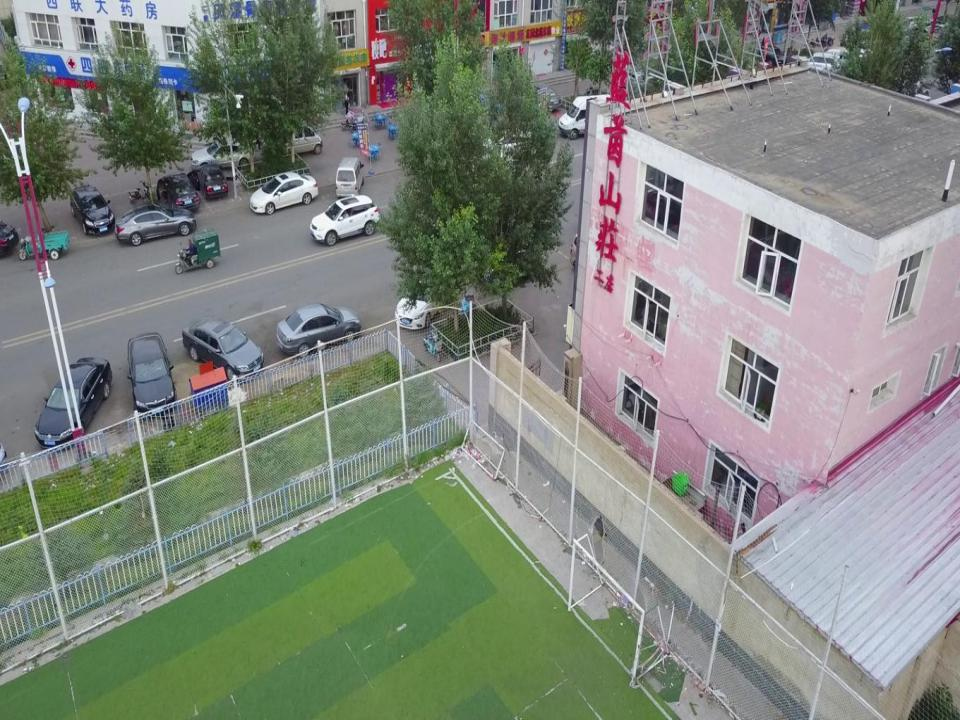car: (31, 354, 114, 454), (181, 313, 264, 384), (275, 300, 362, 360), (125, 330, 177, 417), (393, 268, 456, 332), (308, 195, 380, 246), (115, 203, 196, 247), (250, 170, 318, 216), (69, 184, 116, 238), (191, 138, 256, 172), (155, 172, 201, 214), (478, 129, 536, 159), (202, 164, 229, 200), (527, 83, 561, 110)
van: (557, 93, 619, 140), (570, 232, 627, 278), (270, 122, 324, 156), (334, 156, 366, 200)
